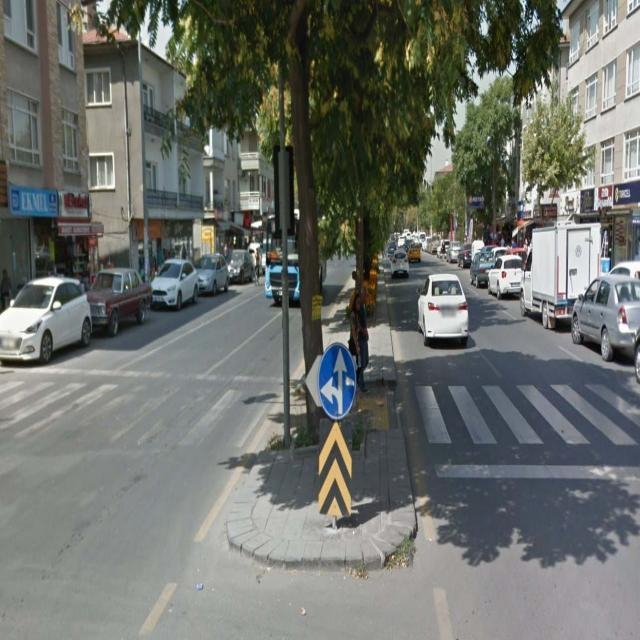ilerisol: (318, 345, 358, 420)
